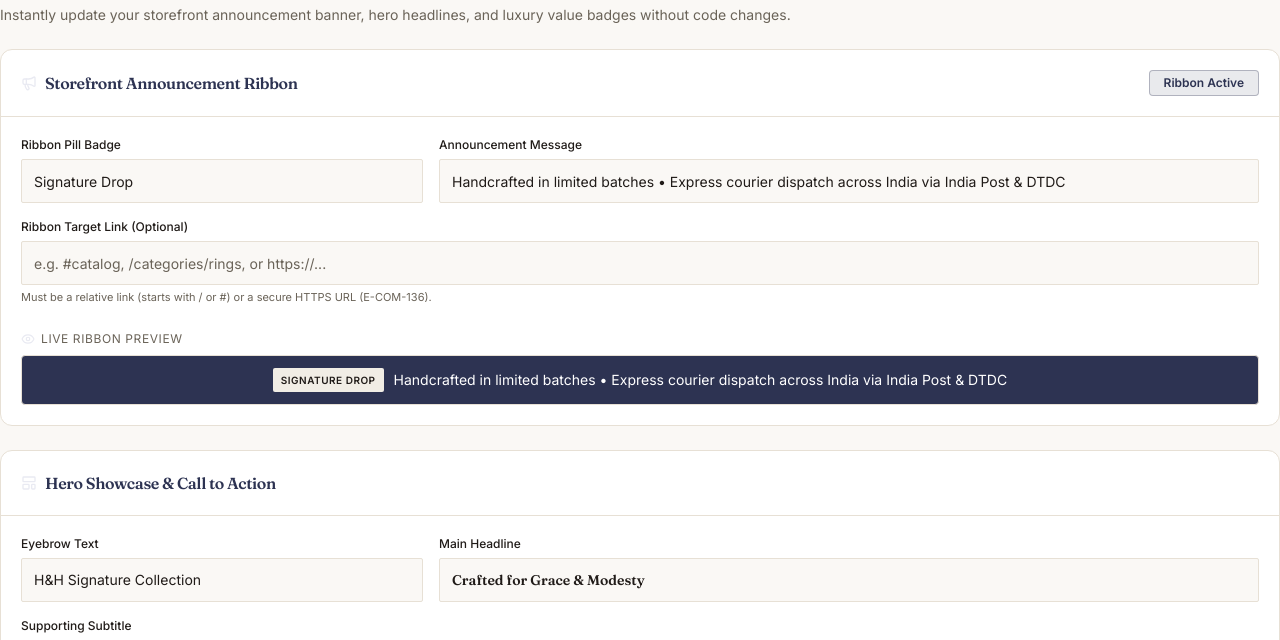
BrandCustomizerDashboard Component › updates live hero preview when headline is edited
Replace the text in the field labelled "Main Headline" with "New Royal Nose Pin Collection" at (849, 580), box [439,558,1259,602]
(page scrolled)
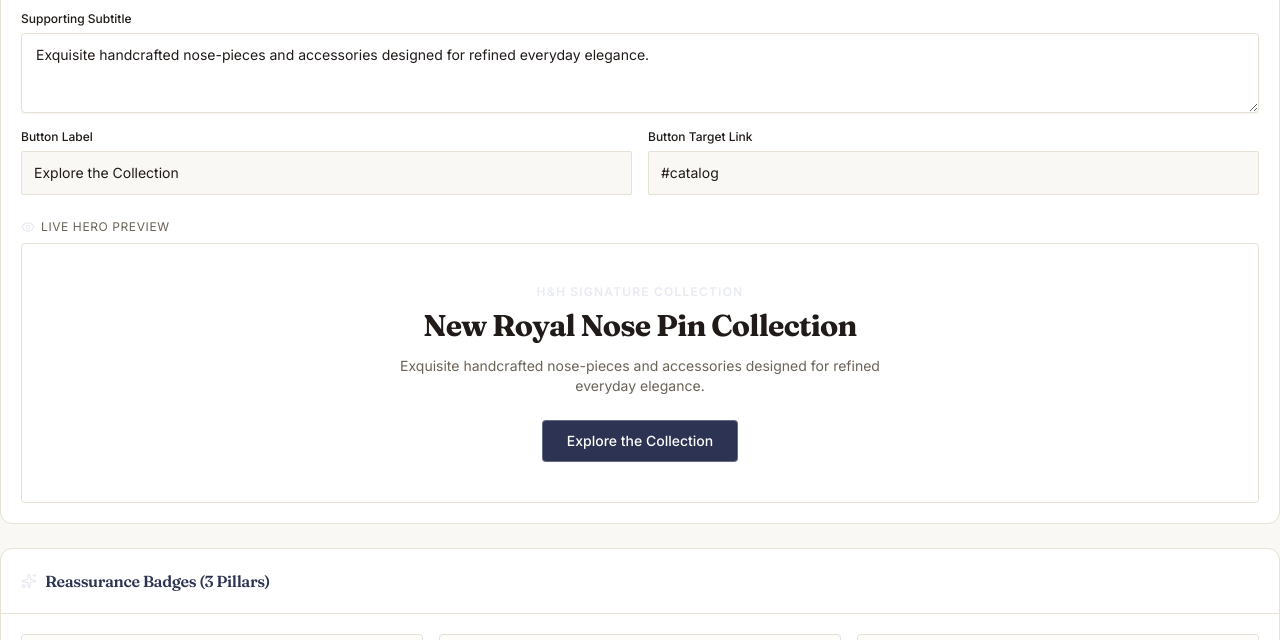
Now the heading "New Royal Nose Pin Collection" is shown, box [423,307,857,344]
